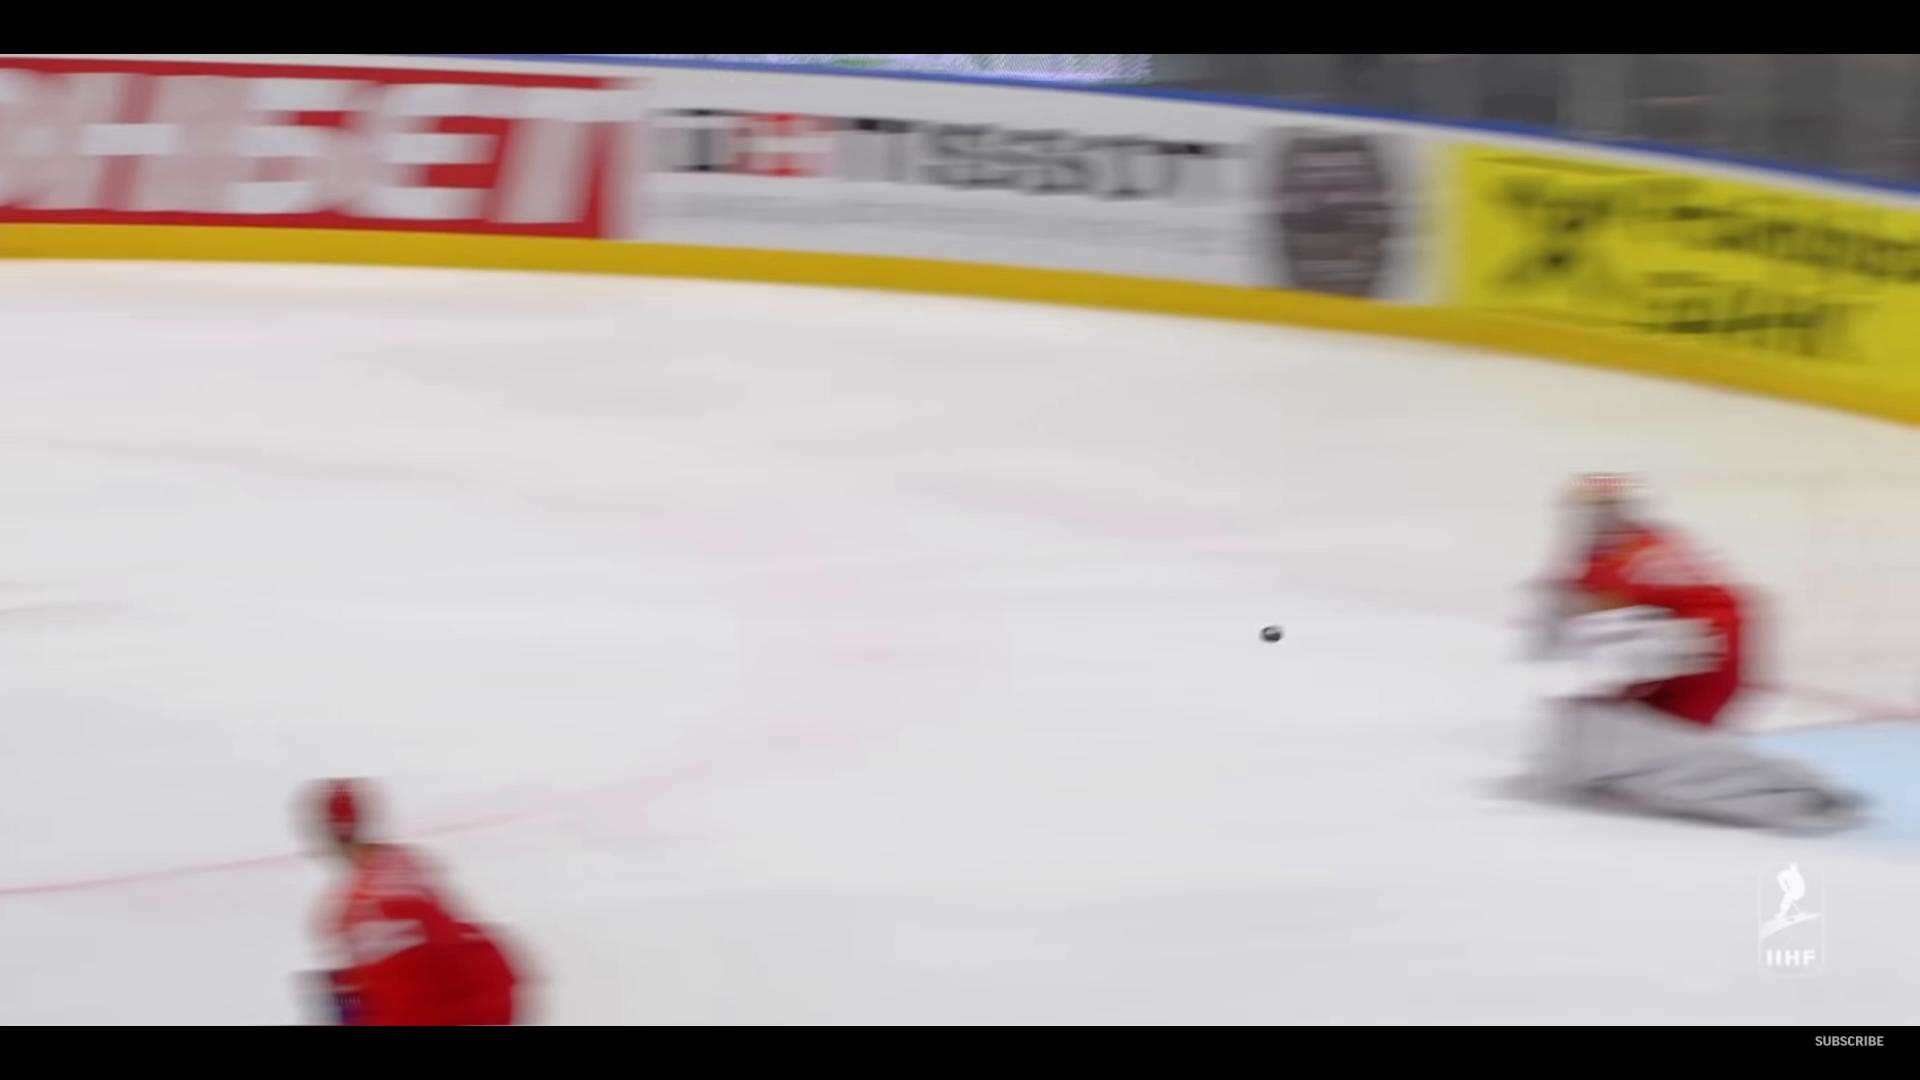puck: (1259, 624, 1283, 642)
